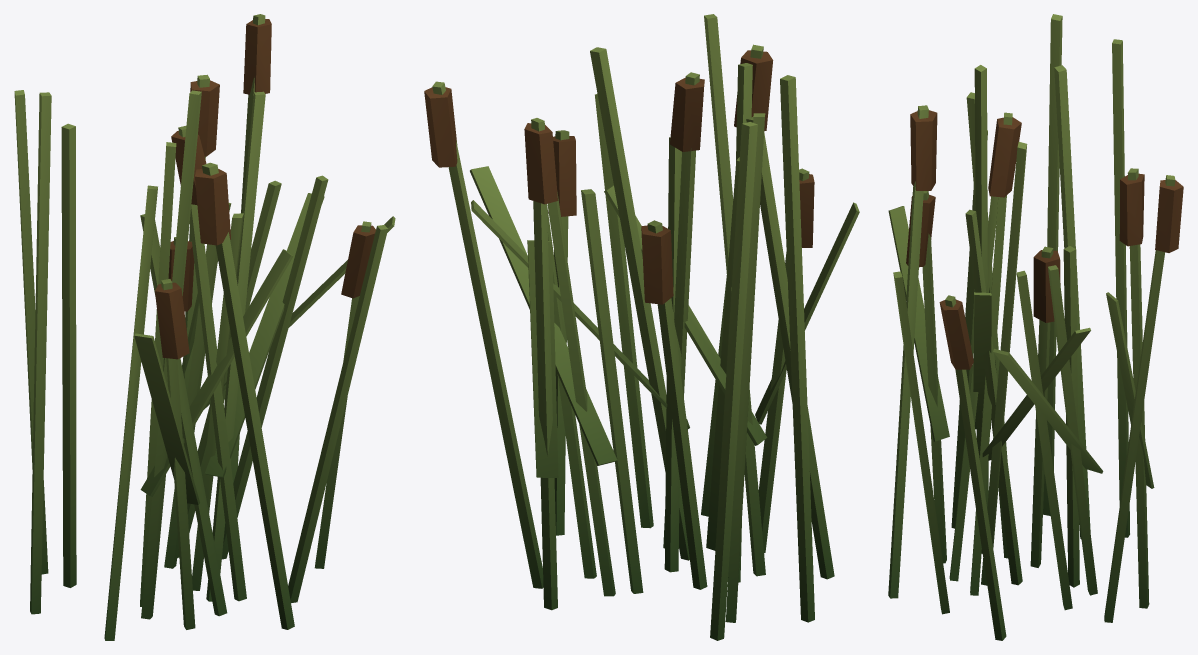
Rendered from trzcina_1.glb.
3 renders of one model, left to right at view 1: azimuth 30°, elevation 25°; view 2: azimuth 150°, elevation 25°; view 3: azimuth 270°, elevation 25°, orthographic. The views are drawn at different scales.
Visible parts, largest first — view 1: trzcina_1; view 2: trzcina_1; view 3: trzcina_1.
Boxes of the visible parts, box(x1,y1,x2,y2) form: trzcina_1: box(14, 14, 395, 640); trzcina_1: box(424, 14, 859, 640); trzcina_1: box(888, 14, 1183, 640).
Size of the model in its own units: 1.02 by 1.46 by 0.7712.
